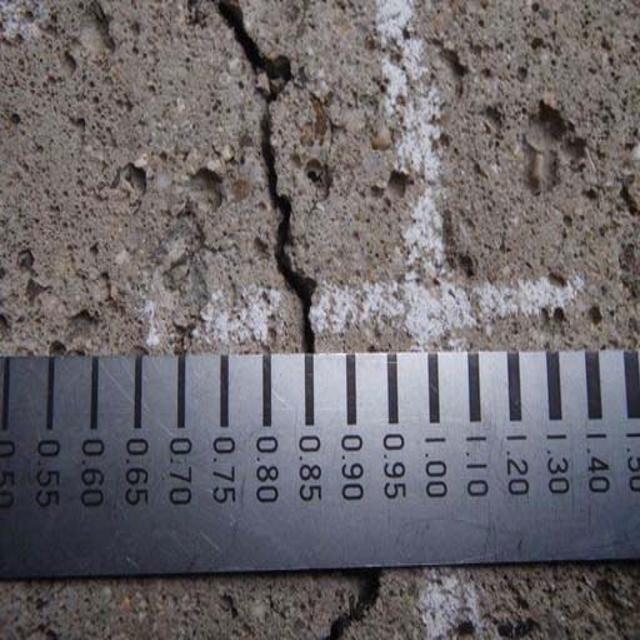crack: (200, 17, 339, 354), (277, 574, 429, 640)
